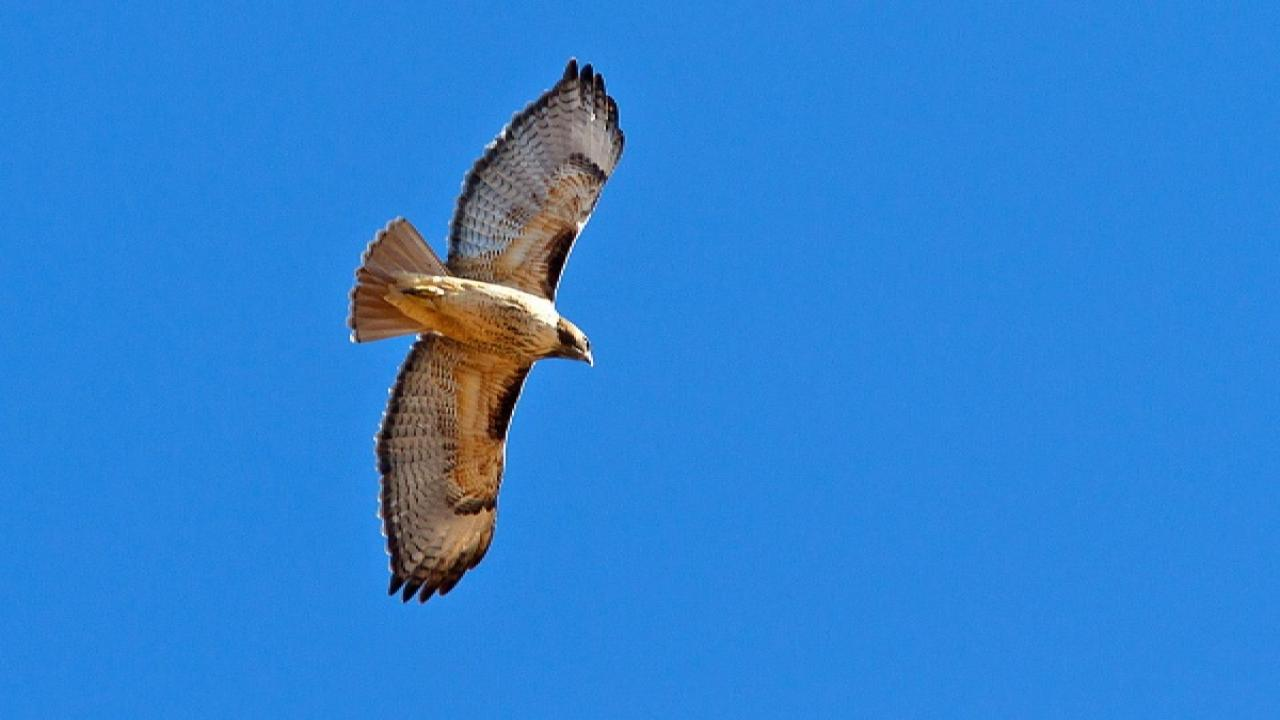Bird: (330, 49, 640, 615)
